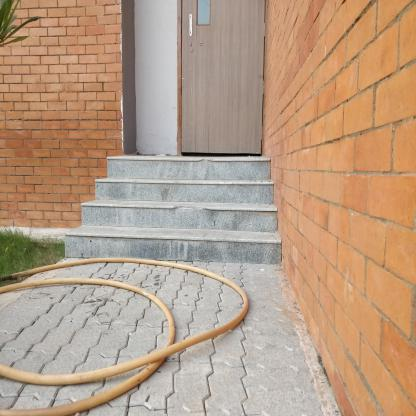stairs: (102, 178, 267, 274)
